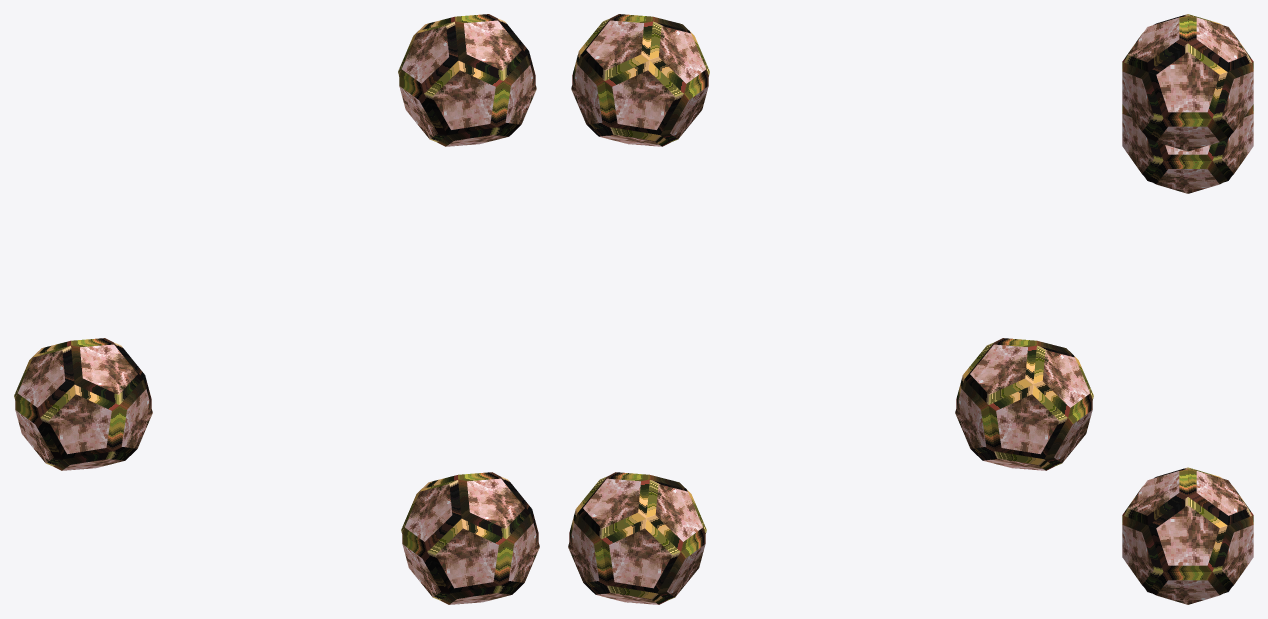
File: tx_liumangxing_yellow_keep_01.obj
3 renders of one model, left to right at view 1: azimuth 30°, elevation 25°; view 2: azimuth 150°, elevation 25°; view 3: azimuth 270°, elevation 25°, orthographic.
Visible parts, largest first — view 1: Hedra05, Hedra03, Hedra02, Hedra06, Hedra04, Hedra01; view 2: Hedra05, Hedra03, Hedra02, Hedra06, Hedra04, Hedra01; view 3: Hedra05, Hedra02, Hedra01, Hedra06, Hedra03, Hedra04.
Part boxes in pixels (x1,y1,x2,y2): Hedra05: (399,20,536,146); Hedra03: (15,344,152,470); Hedra02: (402,478,539,604); Hedra06: (398,14,535,146); Hedra04: (14,338,151,470); Hedra01: (401,472,538,604); Hedra05: (571,20,708,146); Hedra03: (955,344,1092,470); Hedra02: (568,478,705,604); Hedra06: (572,14,709,146); Hedra04: (956,338,1093,470); Hedra01: (569,472,706,604); Hedra05: (1122,17,1253,151); Hedra02: (1122,471,1253,604); Hedra01: (1122,467,1253,594); Hedra06: (1122,14,1253,141); Hedra03: (1122,114,1253,193); Hedra04: (1122,104,1253,183).
Bounding box in the file's own units: 59.2 × 65.61 × 13.57.
2 materials, 2 textured.
